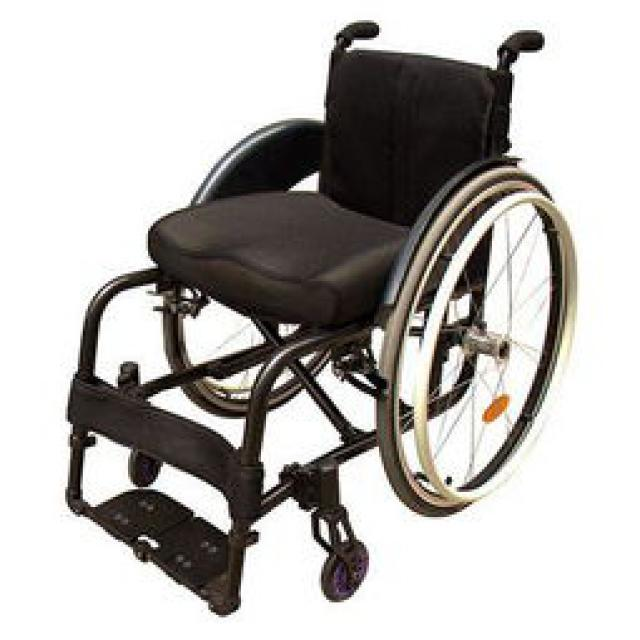wheelchair: (63, 10, 585, 638)
